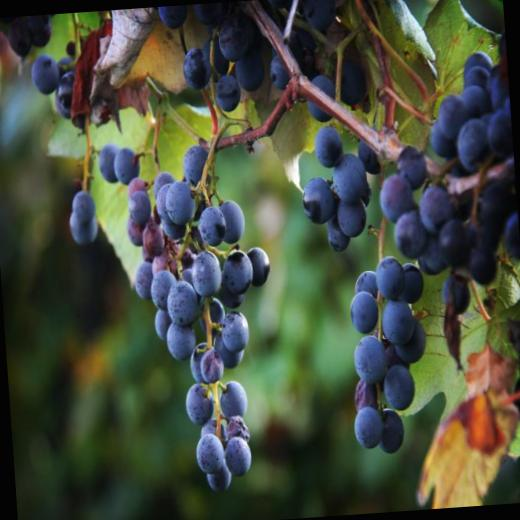Orange: (330, 46, 520, 455), (112, 140, 285, 496), (158, 0, 386, 261), (28, 38, 127, 247), (0, 14, 52, 60)
